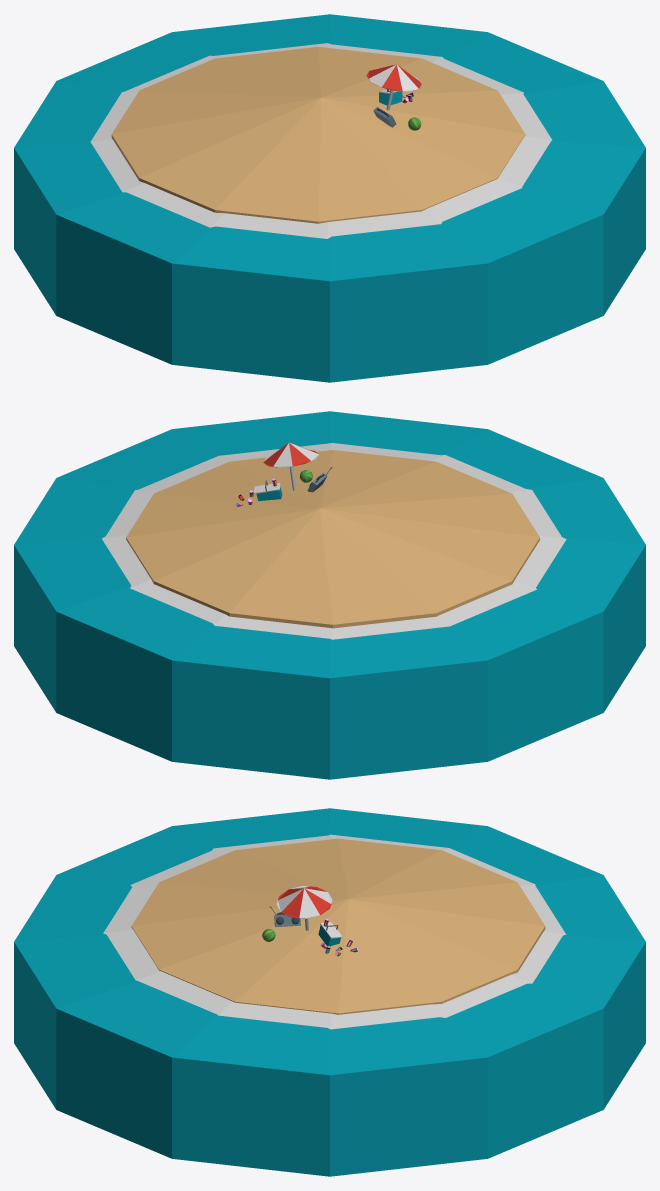
3 views of the same model, one above another, from view 1: azimuth 30°, elevation 25°; view 2: azimuth 150°, elevation 25°; view 3: azimuth 270°, elevation 25° (orthographic).
Visible parts, largest first — view 1: node_MeshObject-303953472-PolyPaper23; view 2: node_MeshObject-303953472-PolyPaper23; view 3: node_MeshObject-303953472-PolyPaper23.
Part boxes in pixels (x1=…): node_MeshObject-303953472-PolyPaper23: x1=14, y1=14, x2=645, y2=382; node_MeshObject-303953472-PolyPaper23: x1=14, y1=411, x2=645, y2=779; node_MeshObject-303953472-PolyPaper23: x1=14, y1=808, x2=645, y2=1176.
Size of the model in its own units: 7.64 by 2.42 by 7.64.
